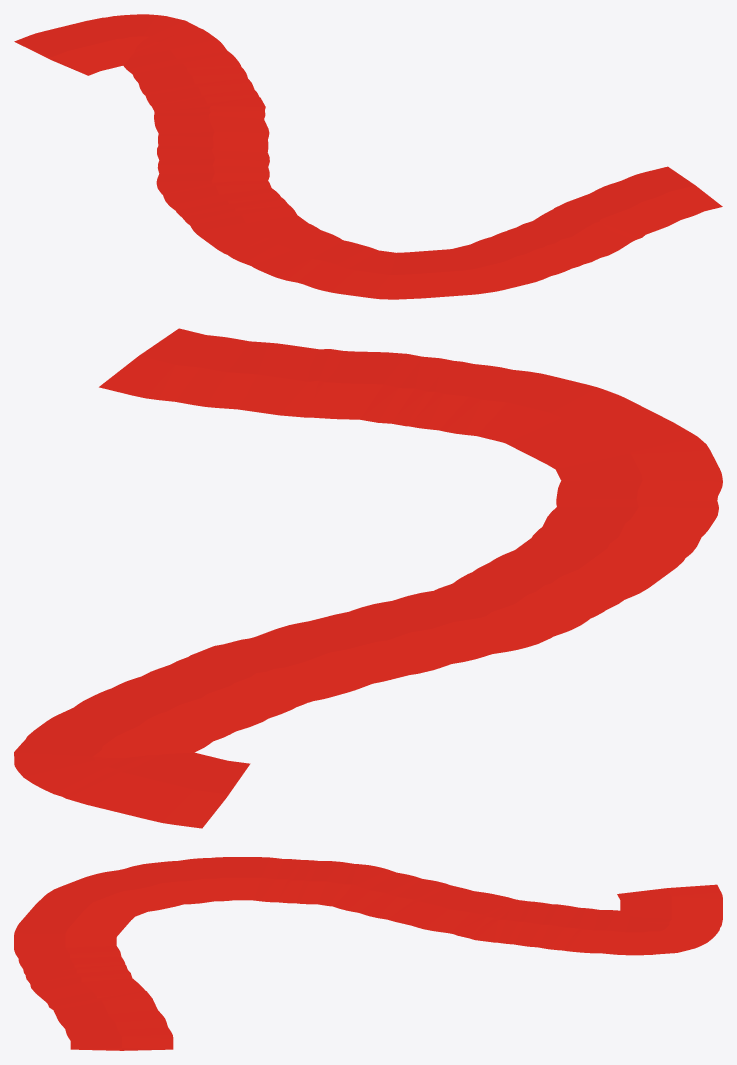
3 views of the same model, one above another, from view 1: azimuth 30°, elevation 25°; view 2: azimuth 150°, elevation 25°; view 3: azimuth 270°, elevation 25° (orthographic). The views are drawn at different scales.
Visible parts, largest first — view 1: GP_Layer; view 2: GP_Layer; view 3: GP_Layer.
Part boxes in pixels (bbox=[...]): GP_Layer: bbox=[14, 14, 722, 299]; GP_Layer: bbox=[14, 328, 722, 828]; GP_Layer: bbox=[14, 857, 722, 1050].
Size of the model in its own units: 0.1138 by 0.1771 by 0.000692.
